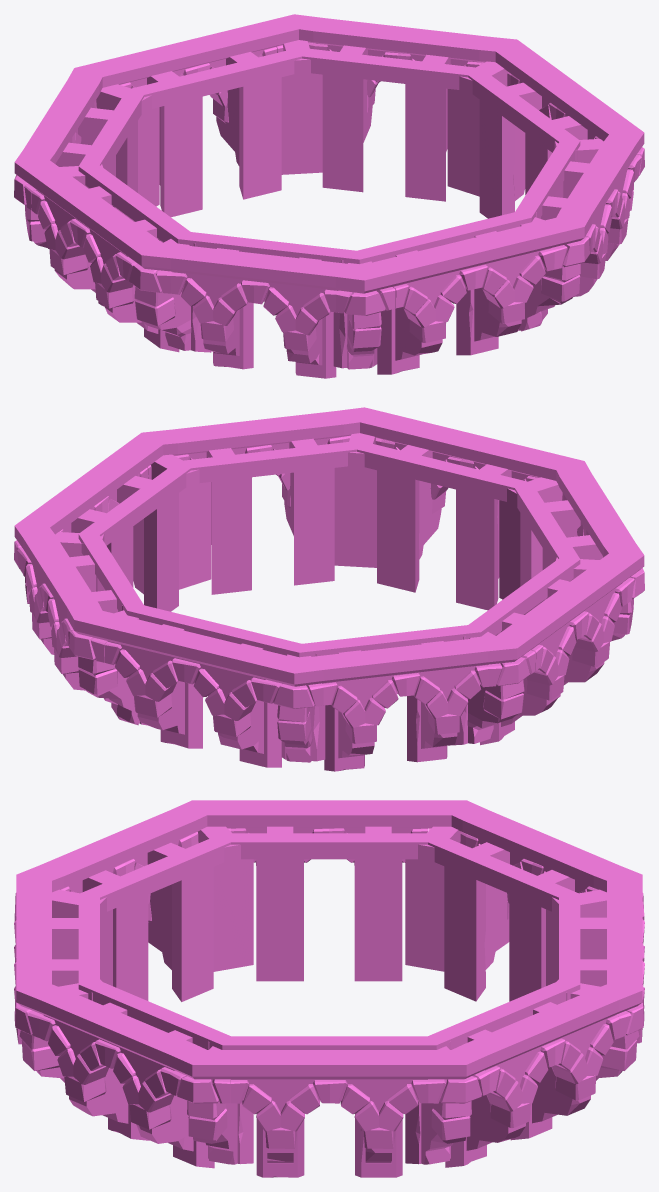
The model's file is SM_Tower_Round_7m_Machicolations_Fantasy.fbx.
The picture shows the model from 3 angles, top to bottom: view 1: azimuth 30°, elevation 25°; view 2: azimuth 150°, elevation 25°; view 3: azimuth 270°, elevation 25°; orthographic projection. The views are drawn at different scales.
Parts seen in each view (by area): view 1: SM_Tower_Round_7m_Machicolations_Fantasy; view 2: SM_Tower_Round_7m_Machicolations_Fantasy; view 3: SM_Tower_Round_7m_Machicolations_Fantasy.
Boxes of the visible parts, x1,y1,x2,y2 form: SM_Tower_Round_7m_Machicolations_Fantasy: [14, 14, 644, 378]; SM_Tower_Round_7m_Machicolations_Fantasy: [14, 407, 644, 771]; SM_Tower_Round_7m_Machicolations_Fantasy: [14, 800, 644, 1177].
Size of the model in its own units: 9.62 by 2.45 by 9.62.
